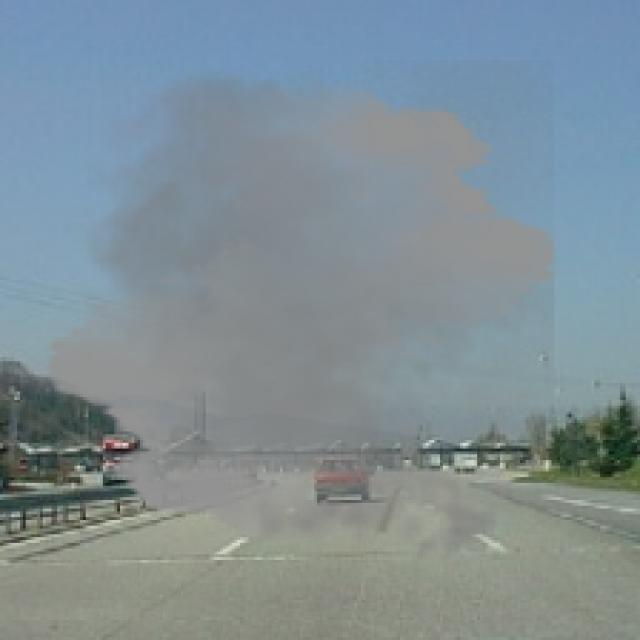Smoke: (28, 59, 574, 574)
